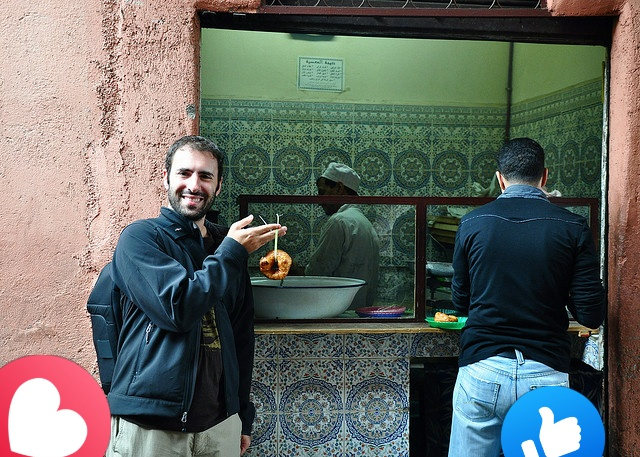like: (501, 386, 605, 457)
love: (0, 355, 111, 457)
